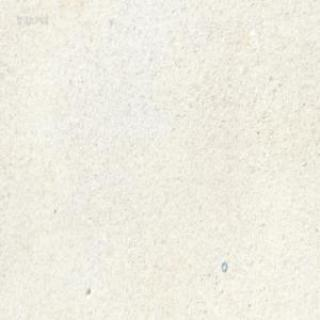Washertrack_idkeyframe: (220, 260, 226, 271)
